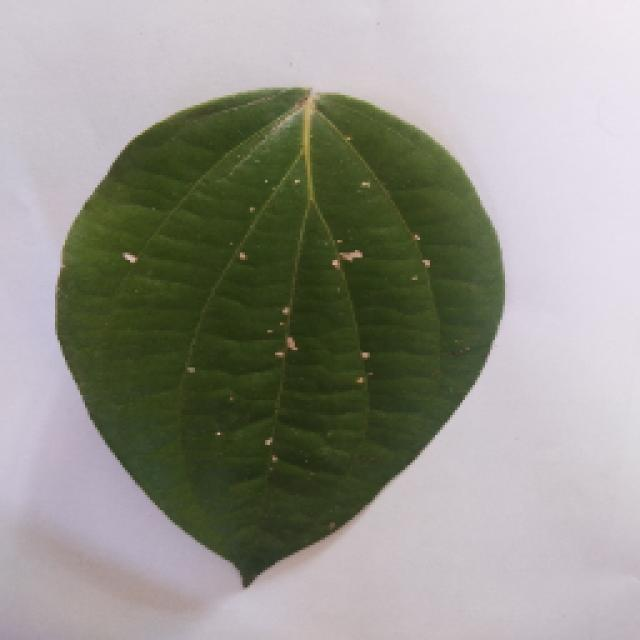pollu-disease: (52, 85, 502, 585)
